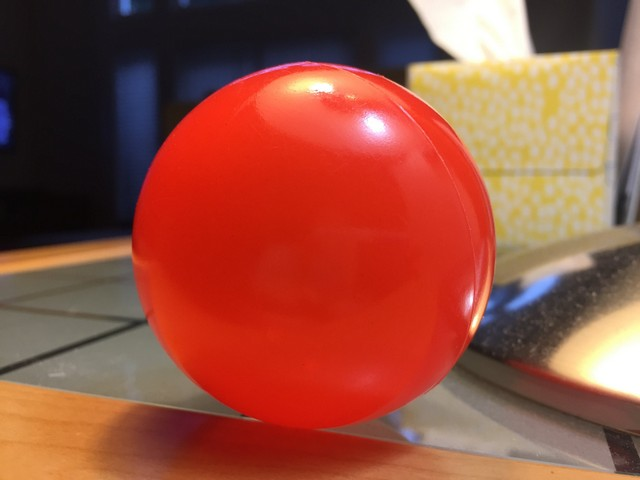Ball: (131, 63, 494, 430)
